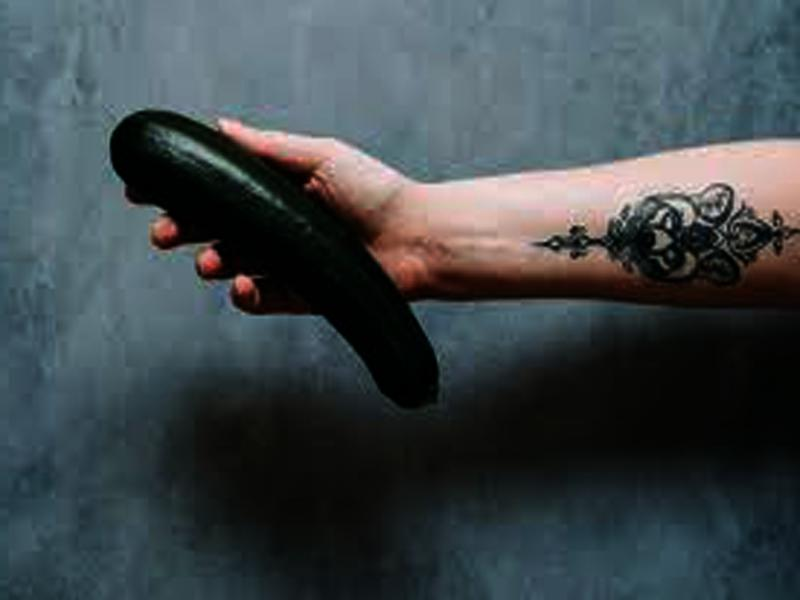Cucumber: (110, 111, 435, 407)
